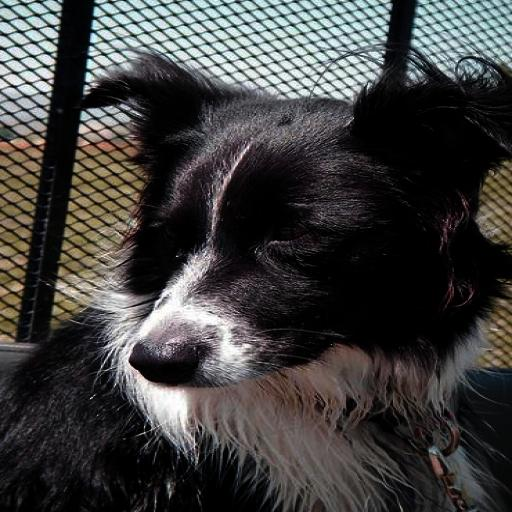dog_face: (101, 63, 484, 394)
